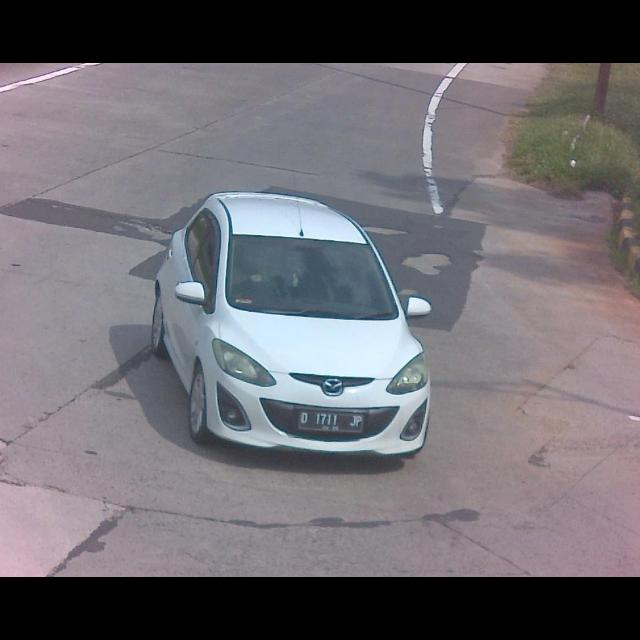plate: (293, 407, 367, 436)
